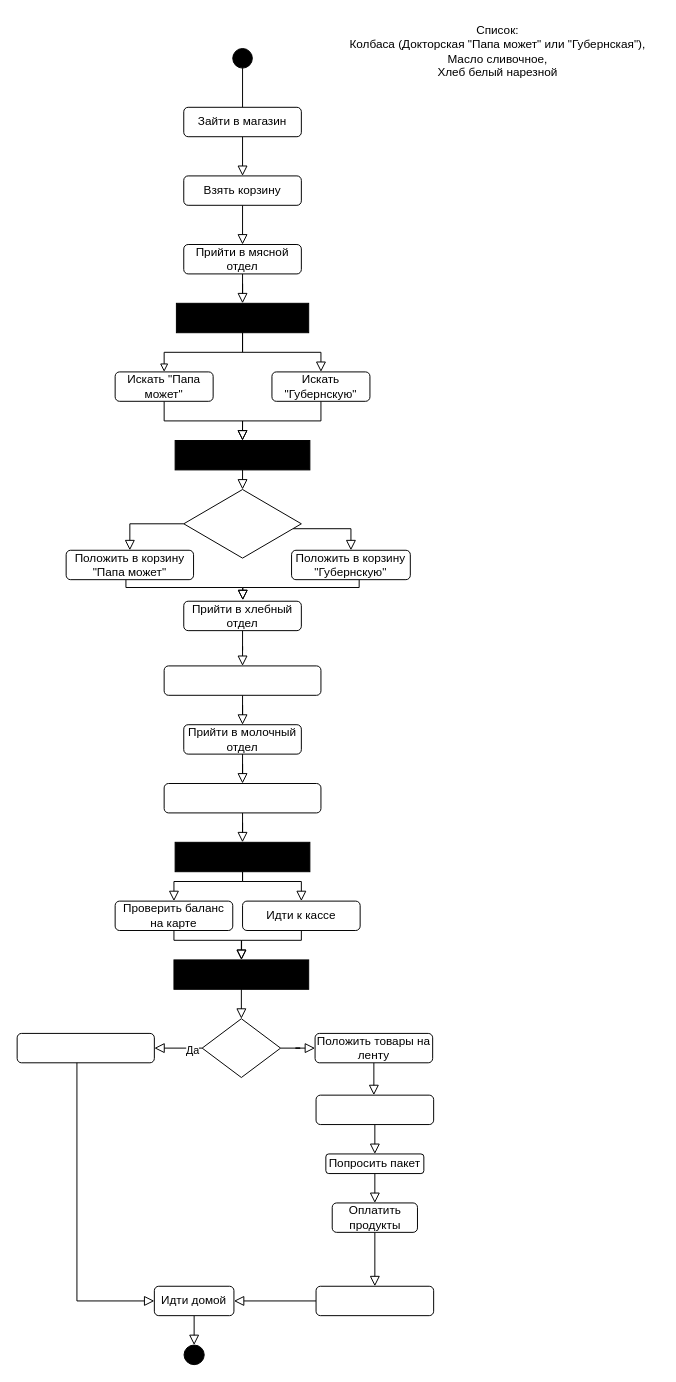
Image size: 676x1382. Some labels were removed from this diagram. Each missing label, with the centre of its shape:
Вернуть товары на свои места и поплакать: point (85, 1047)
Дождаться пробития товаров кассиром: point (374, 1109)
Найти белый нарезной хлеб и положить его в корзину: point (242, 680)
Найти сливочное масло и положить его в корзину: point (242, 798)
Недостаточно денег?: point (241, 1048)
Первым нашёл "Папа может"?: point (242, 523)
Положить продукты в пакет: point (374, 1300)
